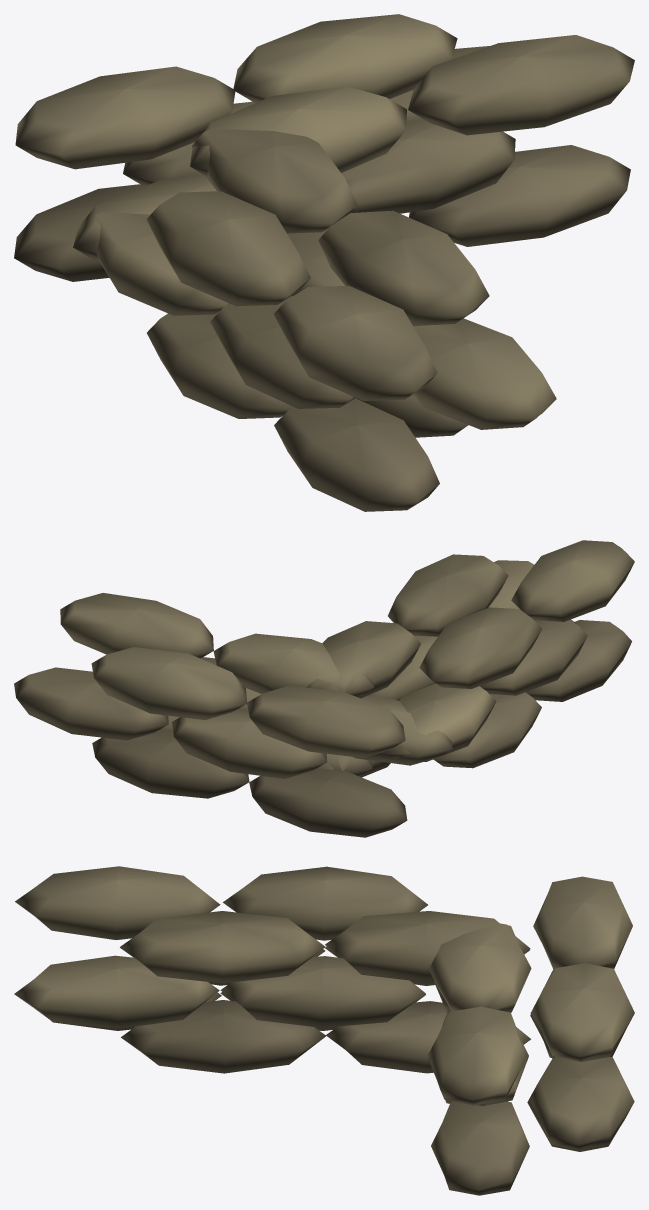
File: m01_prop_sandbag_corner_lod0.glb
The picture shows the model from 3 angles, top to bottom: view 1: azimuth 30°, elevation 25°; view 2: azimuth 150°, elevation 25°; view 3: azimuth 270°, elevation 25°; orthographic projection. The views are drawn at different scales.
Visible parts, largest first — view 1: sandbag_corner; view 2: sandbag_corner; view 3: sandbag_corner.
Part boxes in pixels (x1=…): sandbag_corner: x1=14, y1=14, x2=634, y2=511; sandbag_corner: x1=14, y1=540, x2=634, y2=837; sandbag_corner: x1=14, y1=866, x2=634, y2=1195.
Bounding box in the file's own units: 1.51 × 0.44 × 1.81.
